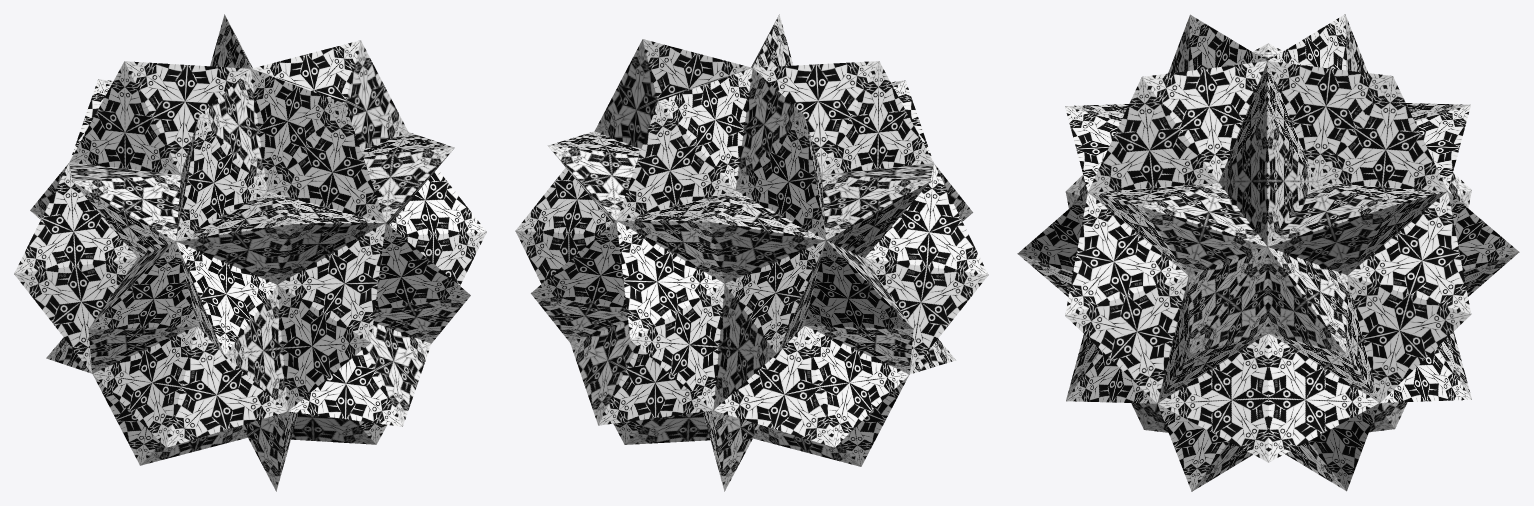
Rendered from Mobius120a_10.obj.
3 renders of one model, left to right at view 1: azimuth 30°, elevation 25°; view 2: azimuth 150°, elevation 25°; view 3: azimuth 270°, elevation 25°, orthographic. The views are drawn at different scales.
Size of the model in its own units: 3.62 by 3.25 by 3.8.
Materials: 1 (1 with a texture image).
